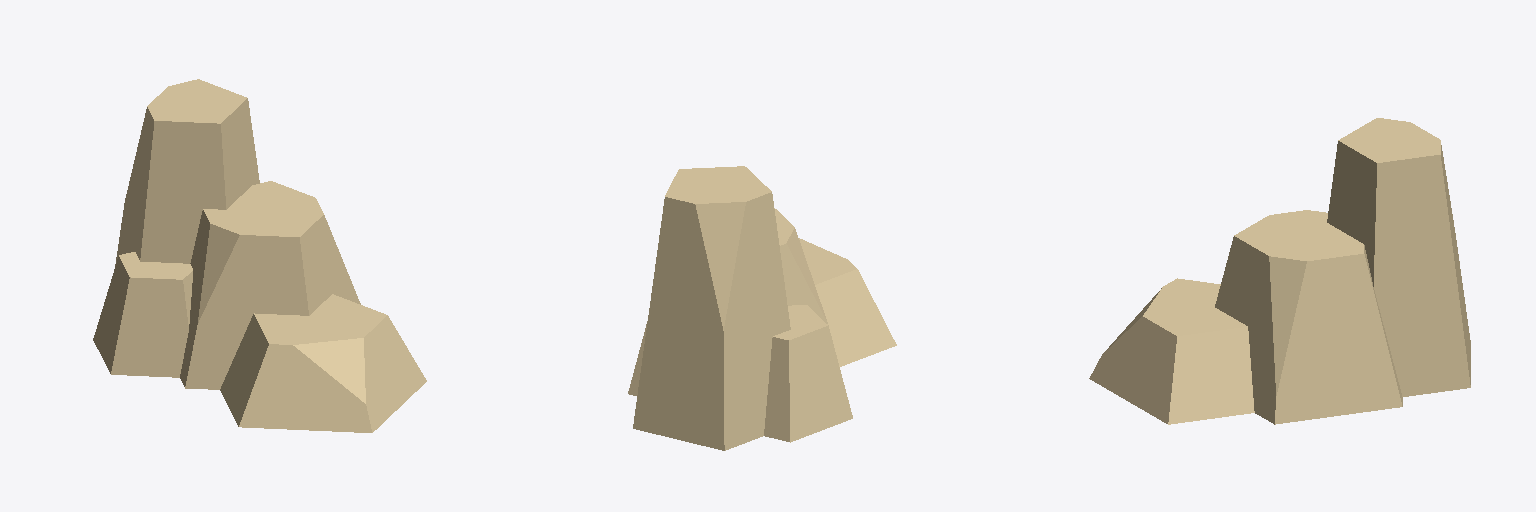
Rendered from rockC2.obj.
3 renders of one model, left to right at view 1: azimuth 30°, elevation 25°; view 2: azimuth 150°, elevation 25°; view 3: azimuth 270°, elevation 25°, orthographic.
Parts seen in each view (by area): view 1: rockC2; view 2: rockC2; view 3: rockC2.
Boxes of the visible parts, <box> form: rockC2: <box>93,79,426,432</box>; rockC2: <box>628,166,896,450</box>; rockC2: <box>1089,118,1470,424</box>.
Bounding box in the file's own units: 2.19 × 2.04 × 3.13.